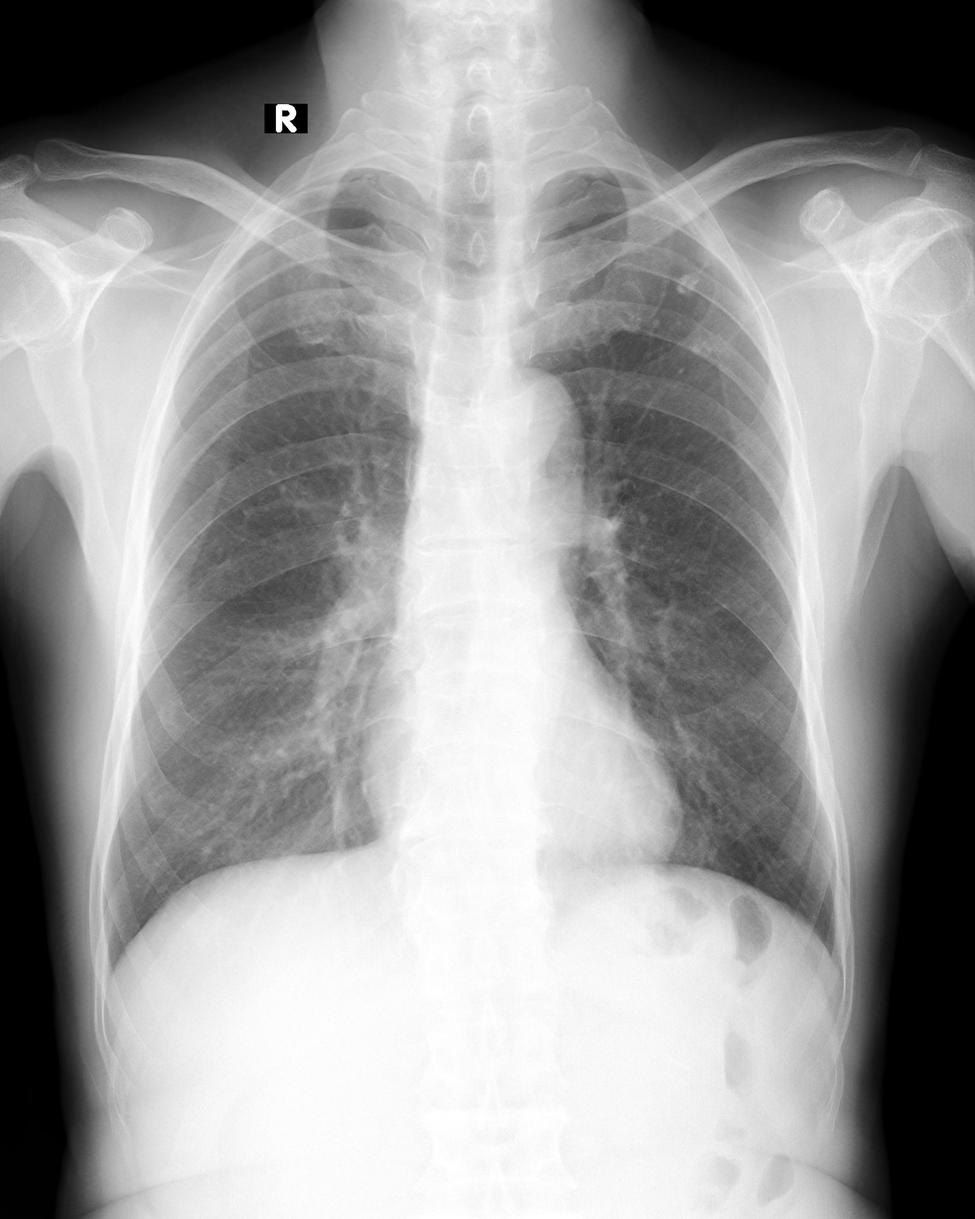Pulmonary fibrosis: (673, 263, 717, 359)
